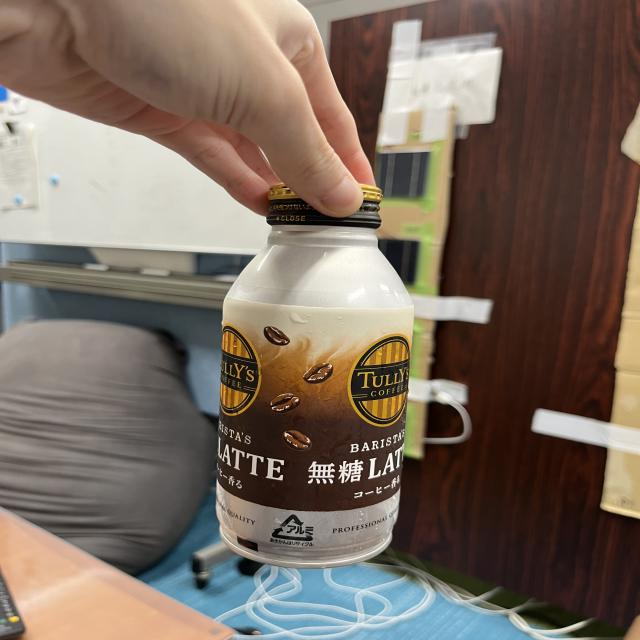coffee-latte: (215, 181, 415, 564)
